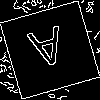A: (25, 25, 71, 79)
